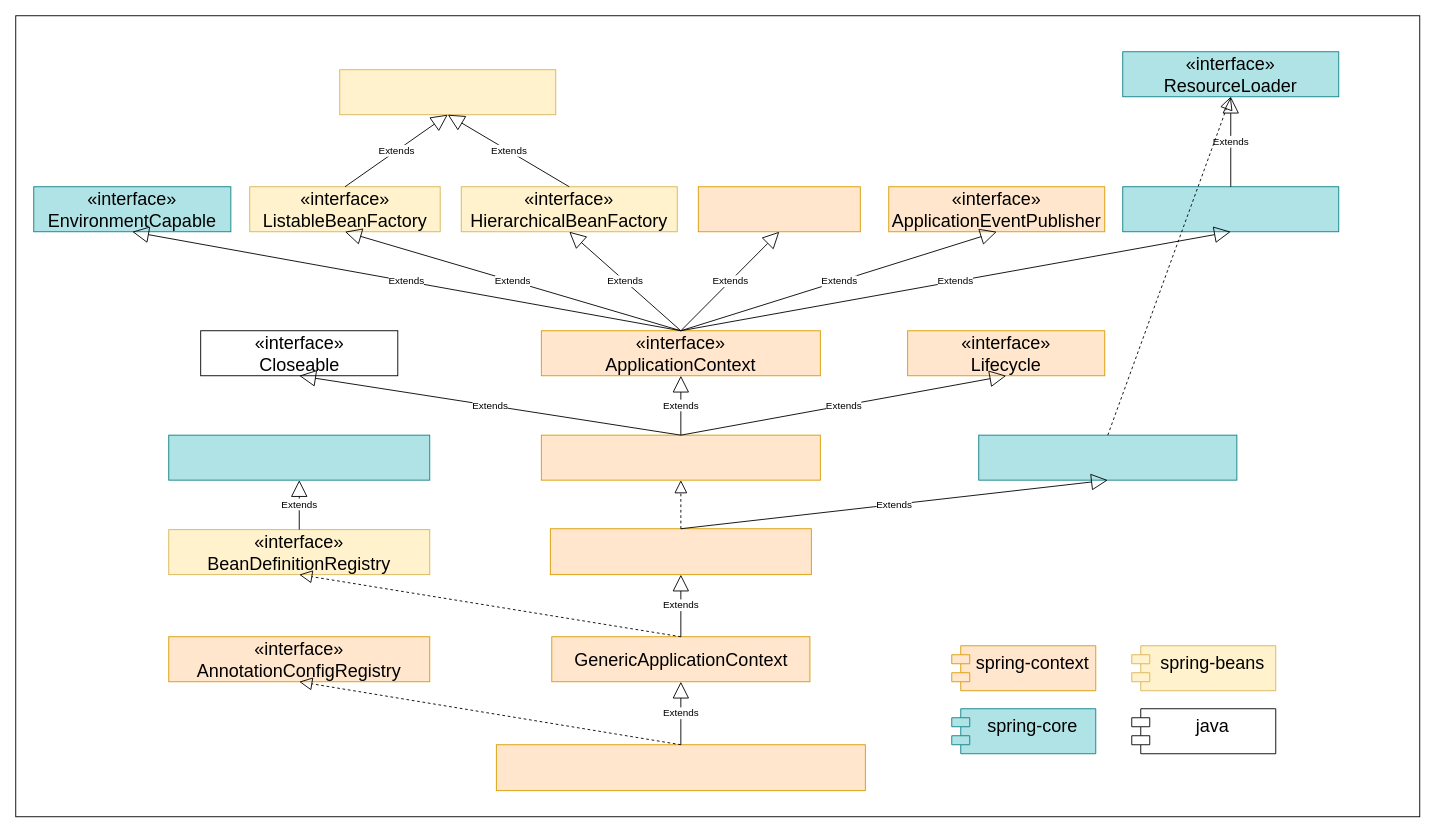
Some shapes in this 1436 by 833 pixel diagram are drawn without their labels. The centre of each missing label's shape, as x and y in pixels:
AbstractApplicationContext: the point at 680,551
AnnotationConfigApplicationContext: the point at 680,767
DefaultResourceLoader: the point at 1107,457
«interface» AliasRegistry: the point at 299,457
«interface» BeanFactory: the point at 447,92
«interface» ConfigurableApplicationContext: the point at 680,457
«interface» MessageSource: the point at 778,209
«interface» ResourcePatternResolver: the point at 1230,209
